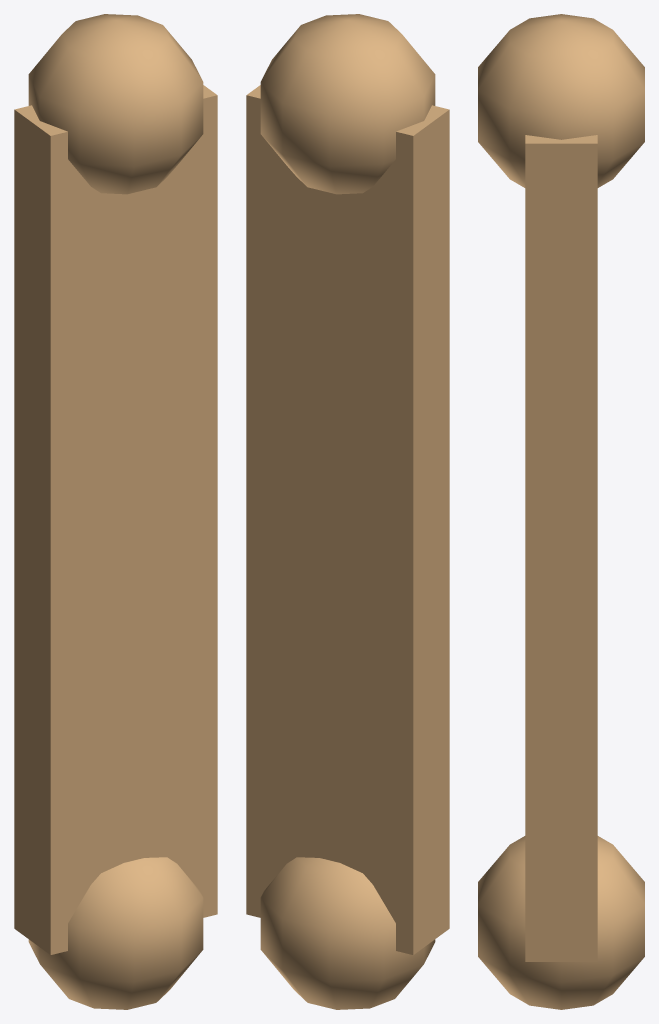
Rendered from wooden-stick.glb.
3 renders of one model, left to right at view 1: azimuth 30°, elevation 25°; view 2: azimuth 150°, elevation 25°; view 3: azimuth 270°, elevation 25°, orthographic.
Visible parts, largest first — view 1: Palito de madera-wood; view 2: Palito de madera-wood; view 3: Palito de madera-wood.
Part boxes in pixels (x1,y1,x2,y2): Palito de madera-wood: (14, 14, 217, 1009); Palito de madera-wood: (246, 14, 449, 1009); Palito de madera-wood: (478, 14, 644, 1009).
Size of the model in its own units: 0.48 by 2.7 by 0.4161.
